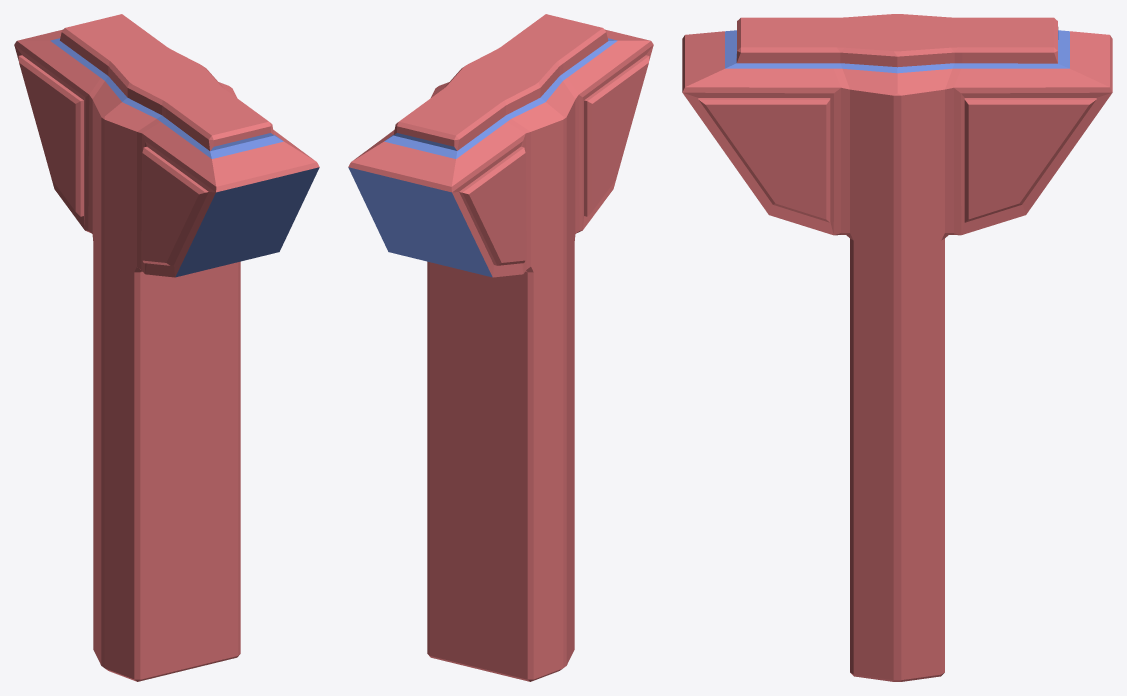
The model's file is SceneryPayUs.fbx.
The picture shows the model from 3 angles, left to right: view 1: azimuth 30°, elevation 25°; view 2: azimuth 150°, elevation 25°; view 3: azimuth 270°, elevation 25°; orthographic projection. The views are drawn at different scales.
Parts seen in each view (by area): view 1: AncientCorner; view 2: AncientCorner; view 3: AncientCorner.
Boxes of the visible parts, x1,y1,x2,y2 form: AncientCorner: (14, 14, 319, 681); AncientCorner: (348, 14, 653, 681); AncientCorner: (682, 14, 1112, 681).
Size of the model in its own units: 99.39 by 431 by 272.
